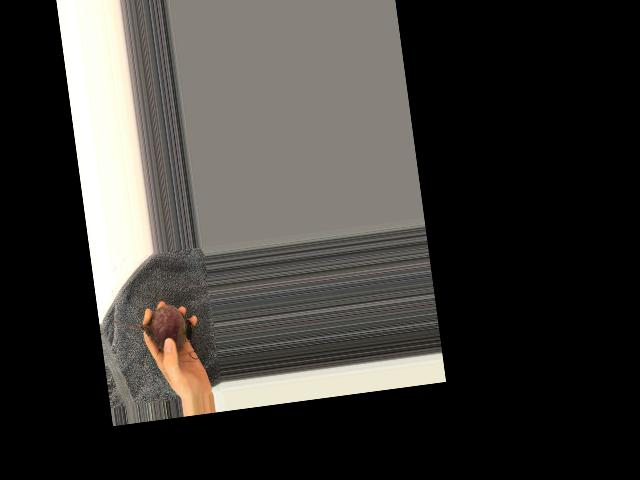beet: (111, 301, 194, 359)
